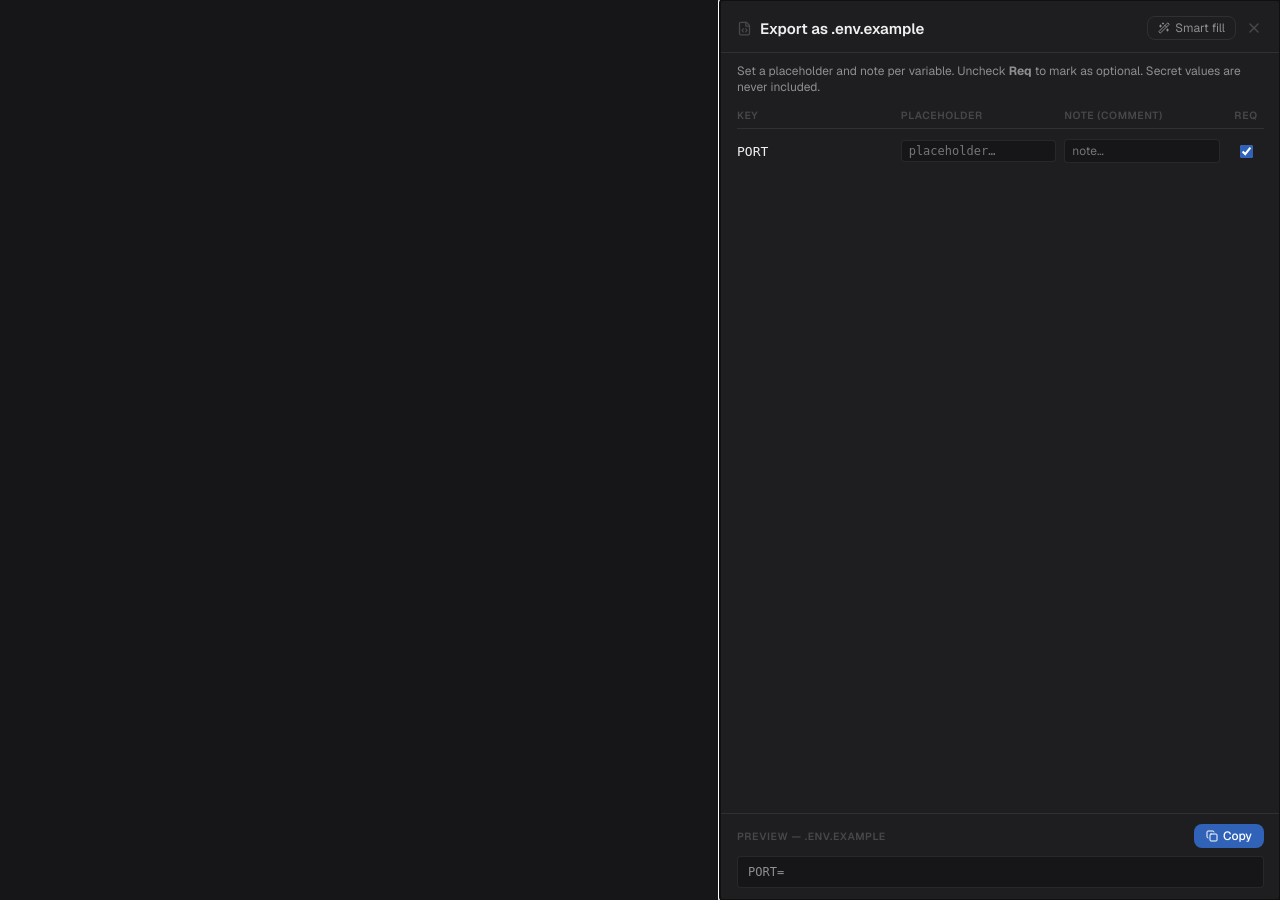
EnvExampleGeneratorPanel – required/optional and smart fill › 5.22: "Smart fill" fills empty PORT placeholder with 3000
Click the button "Smart fill" at point(1192, 28), box left=1147, top=16, right=1236, bottom=40
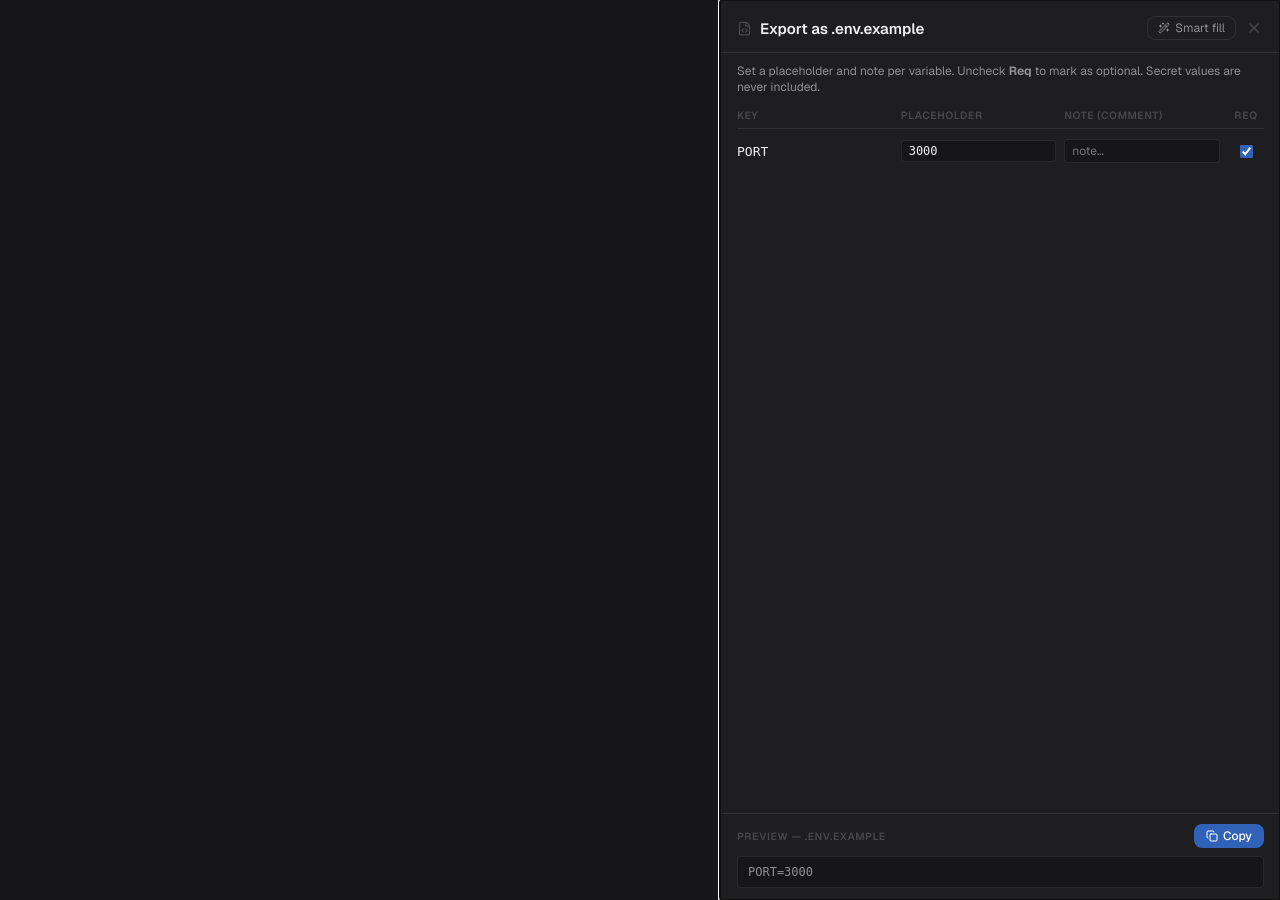
Expected: the text with test id "example-preview" shows "3000", left=748, top=865, right=813, bottom=879
